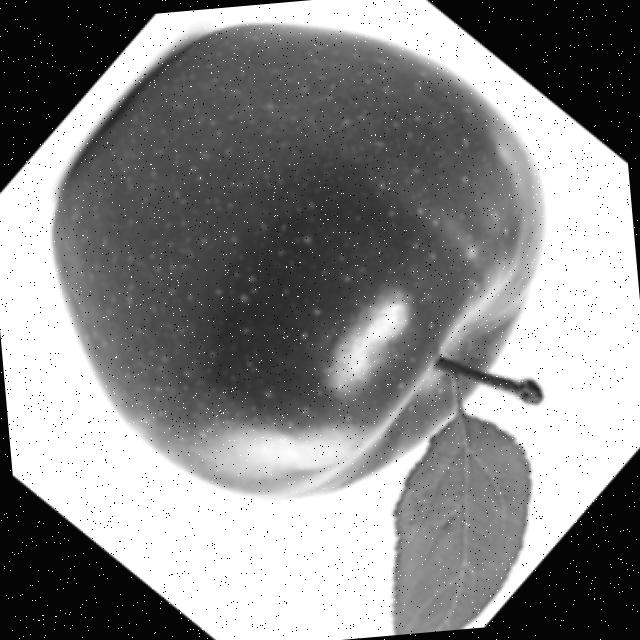Ripe: (27, 0, 576, 530)
